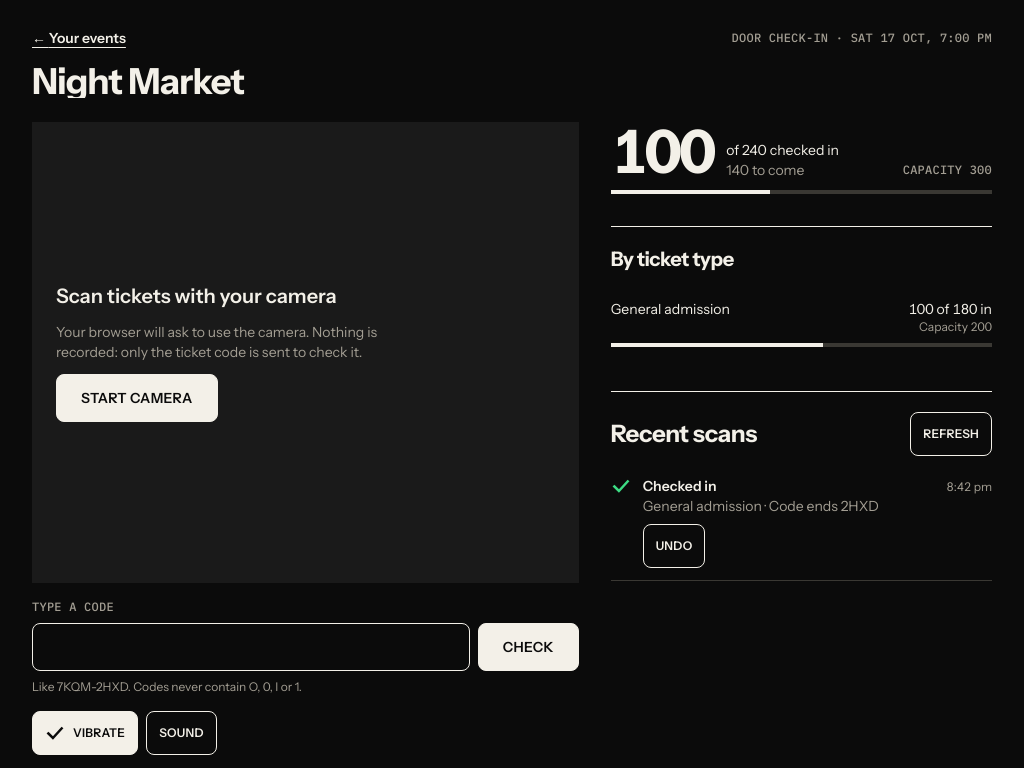
camera problems › scanner failed to load: says so, focuses the heading, and lets the camera go
Click the button "Start camera". click: (137, 398)
box: [56,374,218,422]
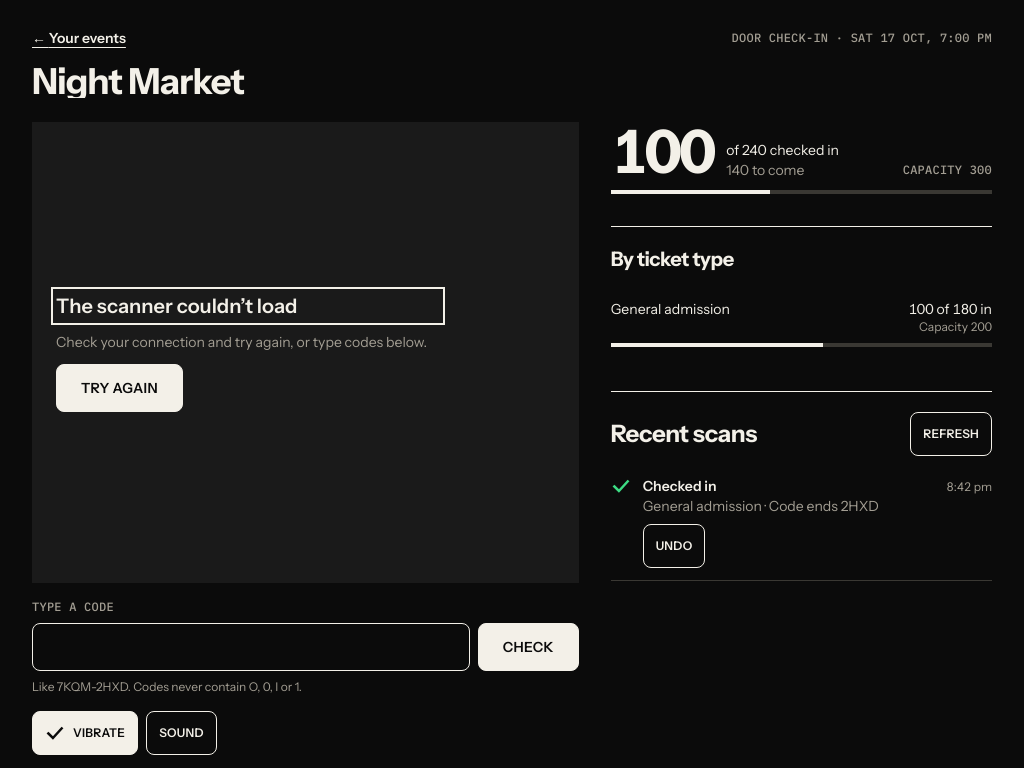
Expected: the text "Check your connection and try again, or type codes below." is shown, [56,332,440,352]
